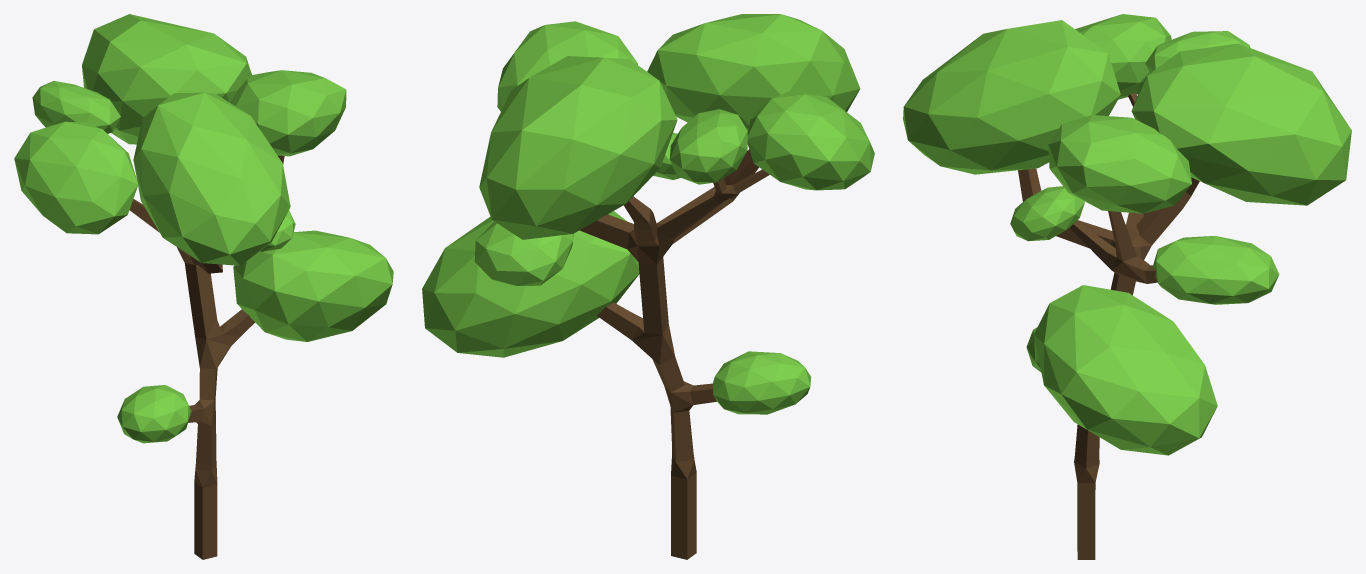
The model's file is tree.dae.
3 views of the same model, side by side, from view 1: azimuth 30°, elevation 25°; view 2: azimuth 150°, elevation 25°; view 3: azimuth 270°, elevation 25° (orthographic). The views are drawn at different scales.
Parts seen in each view (by area): view 1: Tree; view 2: Tree; view 3: Tree.
Part boxes in pixels (bbox=[...]): Tree: bbox=[14, 14, 393, 559]; Tree: bbox=[422, 14, 874, 559]; Tree: bbox=[903, 14, 1351, 559].
Size of the model in its own units: 1.58 by 1.55 by 1.94.
Materials: 2 (2 with a texture image).
